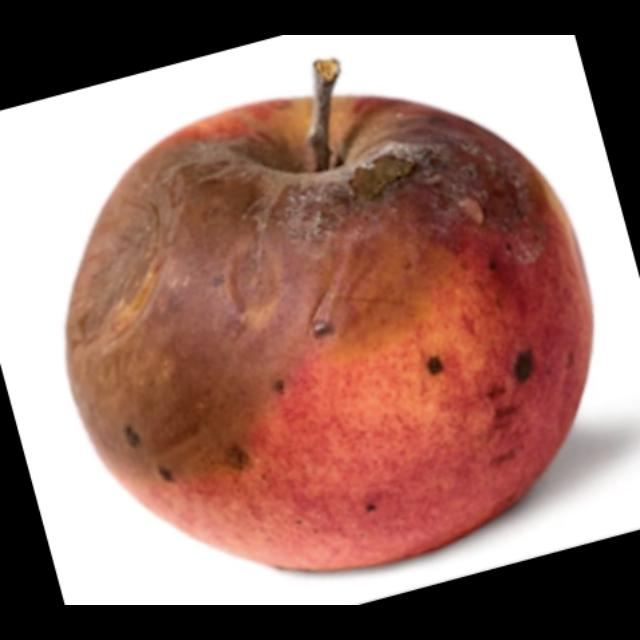Apel Tidak Segar: (58, 82, 600, 578)
